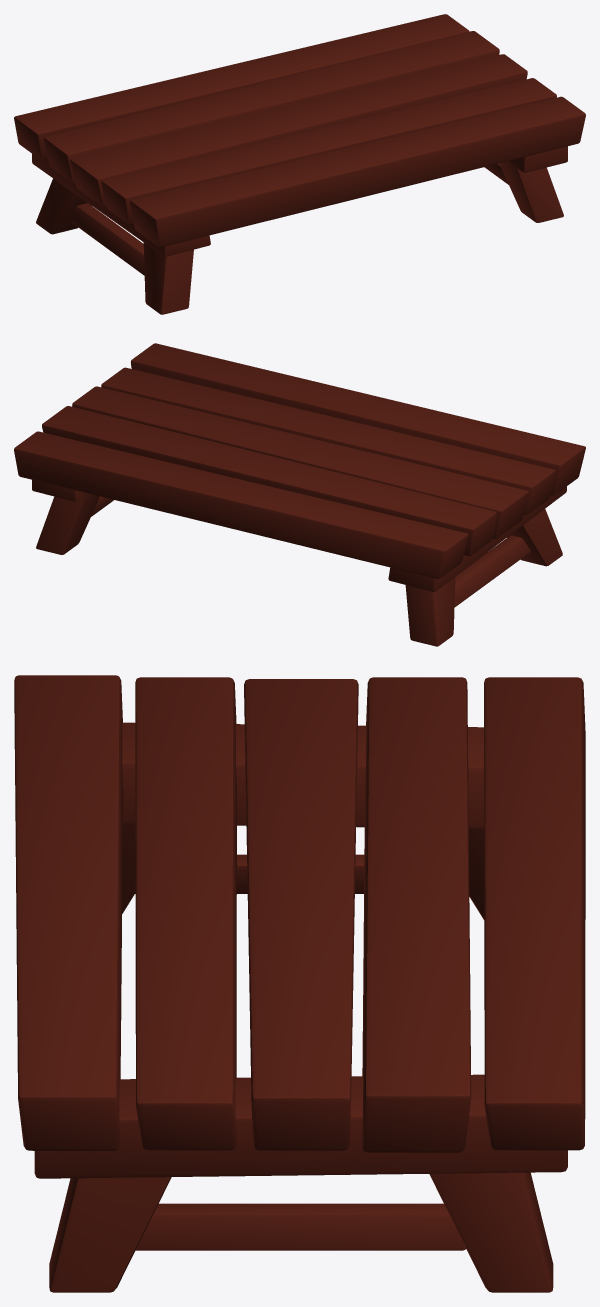
Rendered from tableLarge.obj.
The picture shows the model from 3 angles, top to bottom: view 1: azimuth 30°, elevation 25°; view 2: azimuth 150°, elevation 25°; view 3: azimuth 270°, elevation 25°; orthographic projection. The views are drawn at different scales.
Visible parts, largest first — view 1: tableLarge_Cube.2857; view 2: tableLarge_Cube.2857; view 3: tableLarge_Cube.2857.
Boxes of the visible parts, x1=… form: tableLarge_Cube.2857: x1=14, y1=14, x2=585, y2=314; tableLarge_Cube.2857: x1=14, y1=343, x2=585, y2=646; tableLarge_Cube.2857: x1=14, y1=675, x2=585, y2=1292.
Bounding box in the file's own units: 3 × 0.7075 × 1.72.
